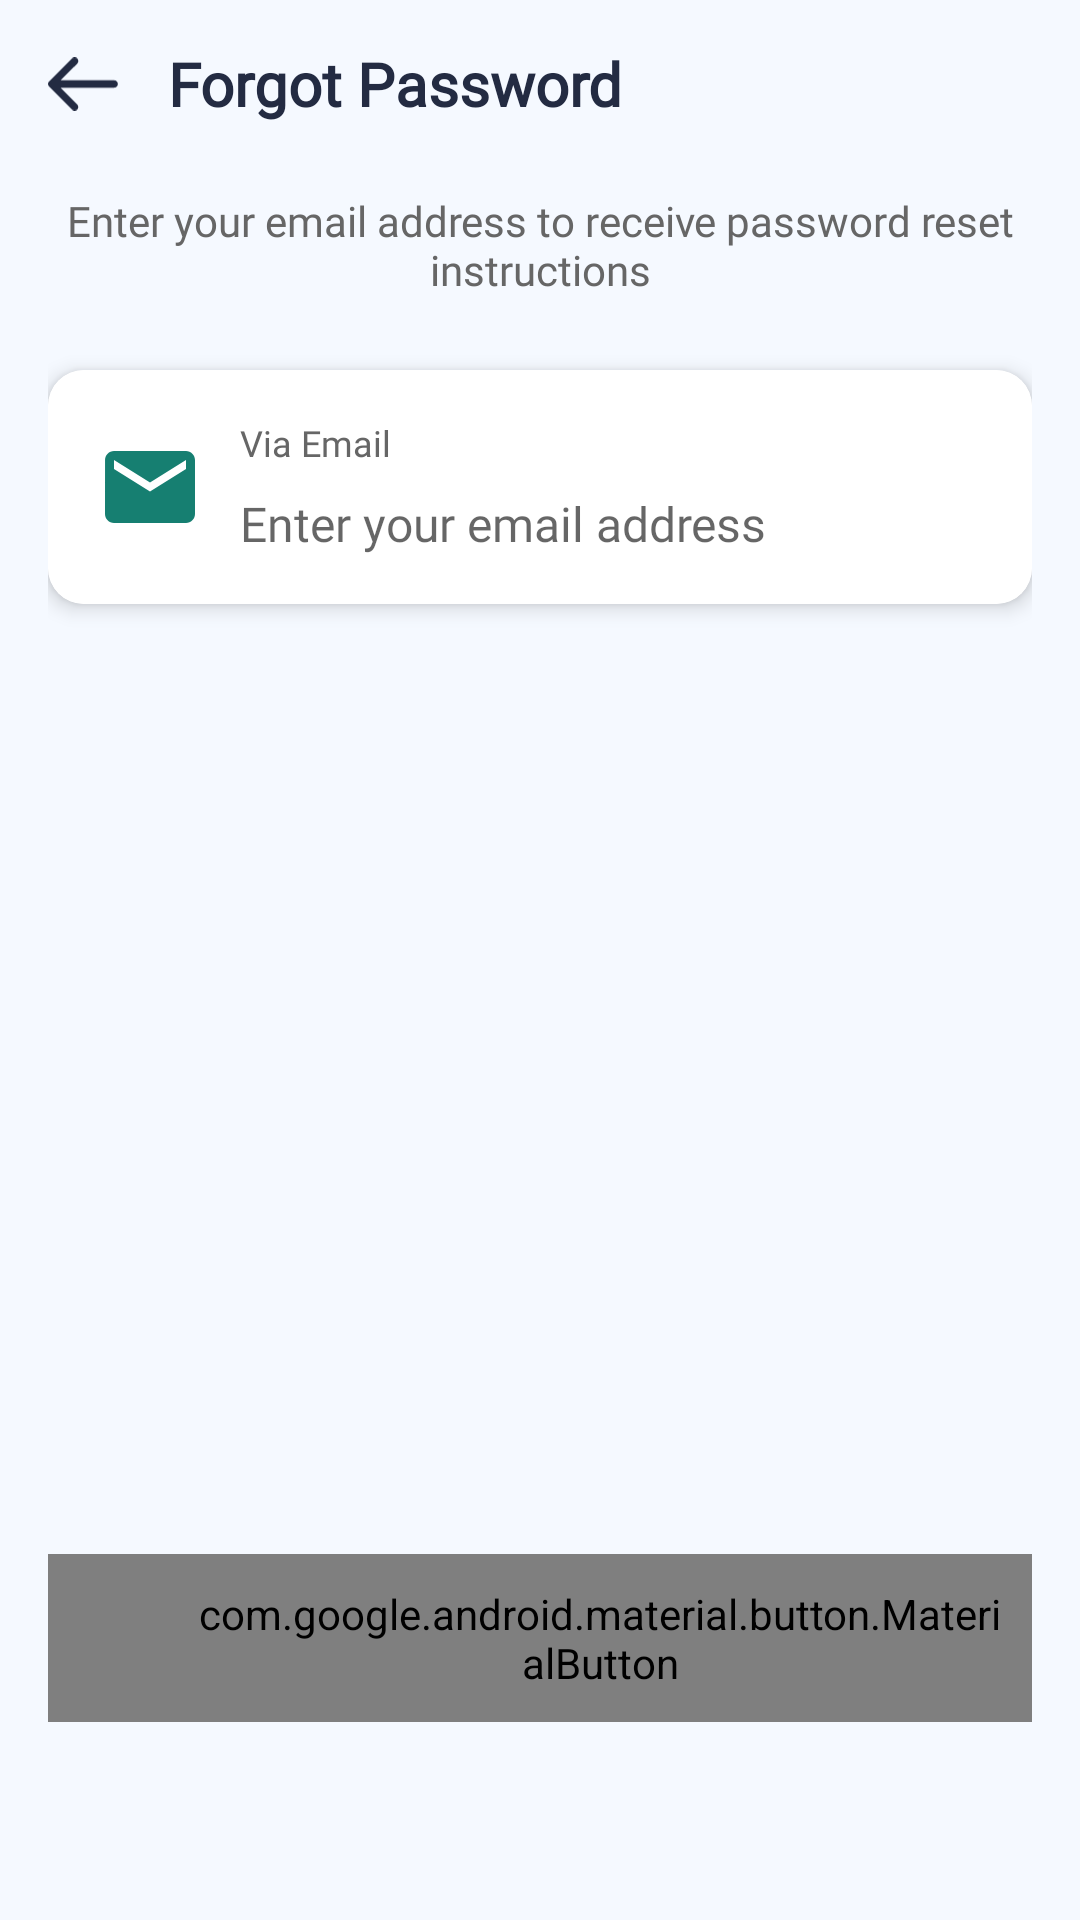

Screen size 1080x1920. Icon name, then its box in pixels as box=[x1, y1, x2, y2]:
Back: box=[48, 57, 118, 111]
